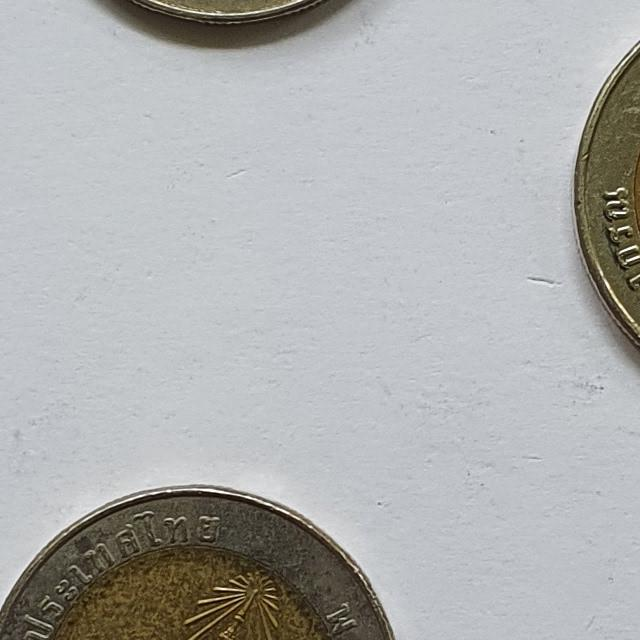1 Bath: (78, 1, 373, 35)
10 Bath: (5, 475, 406, 640), (575, 27, 640, 374)
